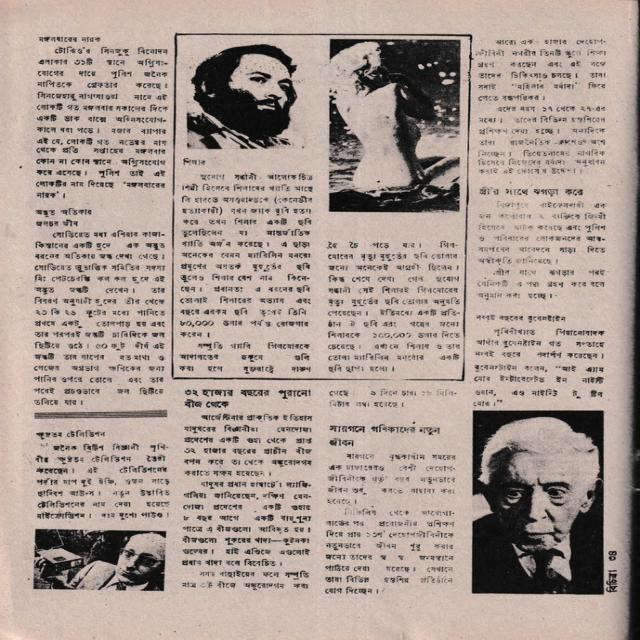image: (473, 410, 604, 595), (330, 38, 461, 212), (187, 39, 306, 150), (34, 529, 167, 591)
page number: (607, 549, 618, 562)
paragraph: (31, 229, 168, 407), (178, 171, 315, 338), (35, 45, 171, 201), (325, 239, 463, 375), (322, 507, 458, 597), (179, 480, 313, 568), (471, 326, 610, 409), (35, 440, 173, 521), (477, 104, 608, 176), (477, 199, 609, 266), (180, 412, 314, 478), (475, 37, 607, 103), (325, 451, 460, 506), (474, 267, 607, 302), (176, 341, 316, 374), (180, 567, 313, 592), (325, 387, 459, 410)
text: (605, 569, 619, 595)
title: (328, 423, 442, 448), (182, 388, 312, 409), (478, 184, 585, 197), (30, 206, 93, 228), (475, 312, 569, 324), (32, 427, 108, 440), (36, 36, 104, 44), (180, 157, 209, 167)
